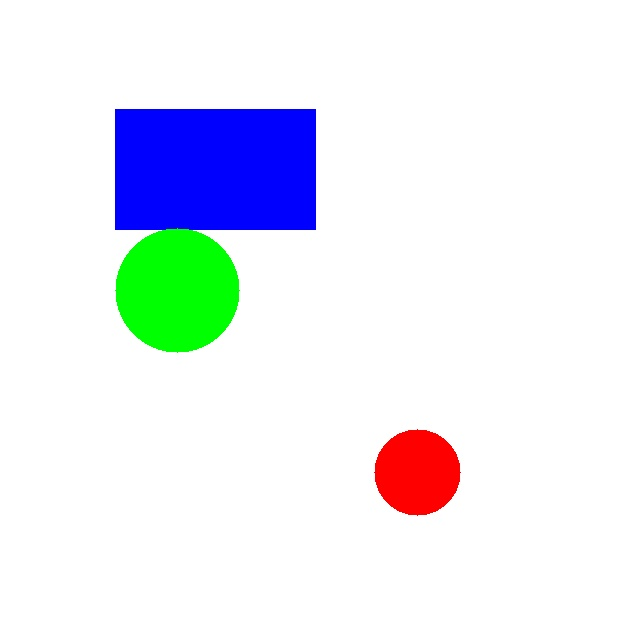cartao: (115, 109, 315, 229)
rosca_externa: (115, 228, 239, 352)
rosca_interna: (374, 429, 460, 515)
